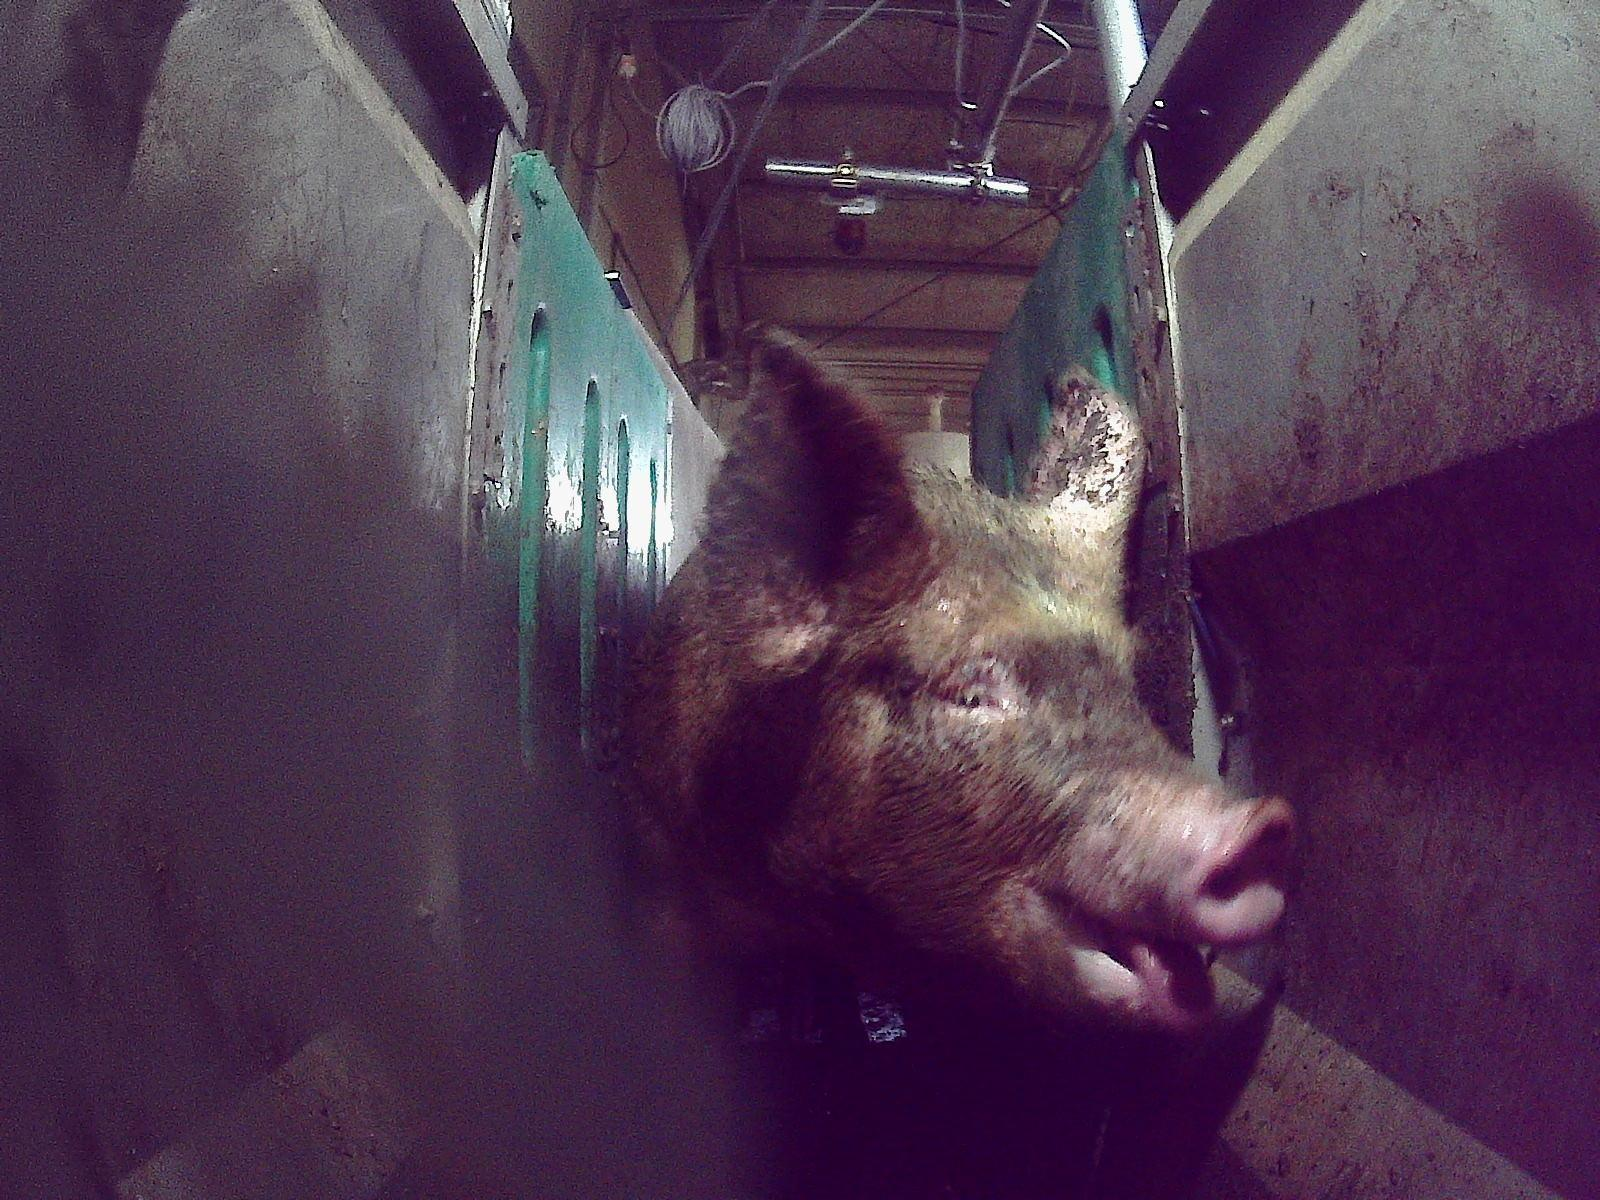Face: (738, 501, 1300, 1037)
